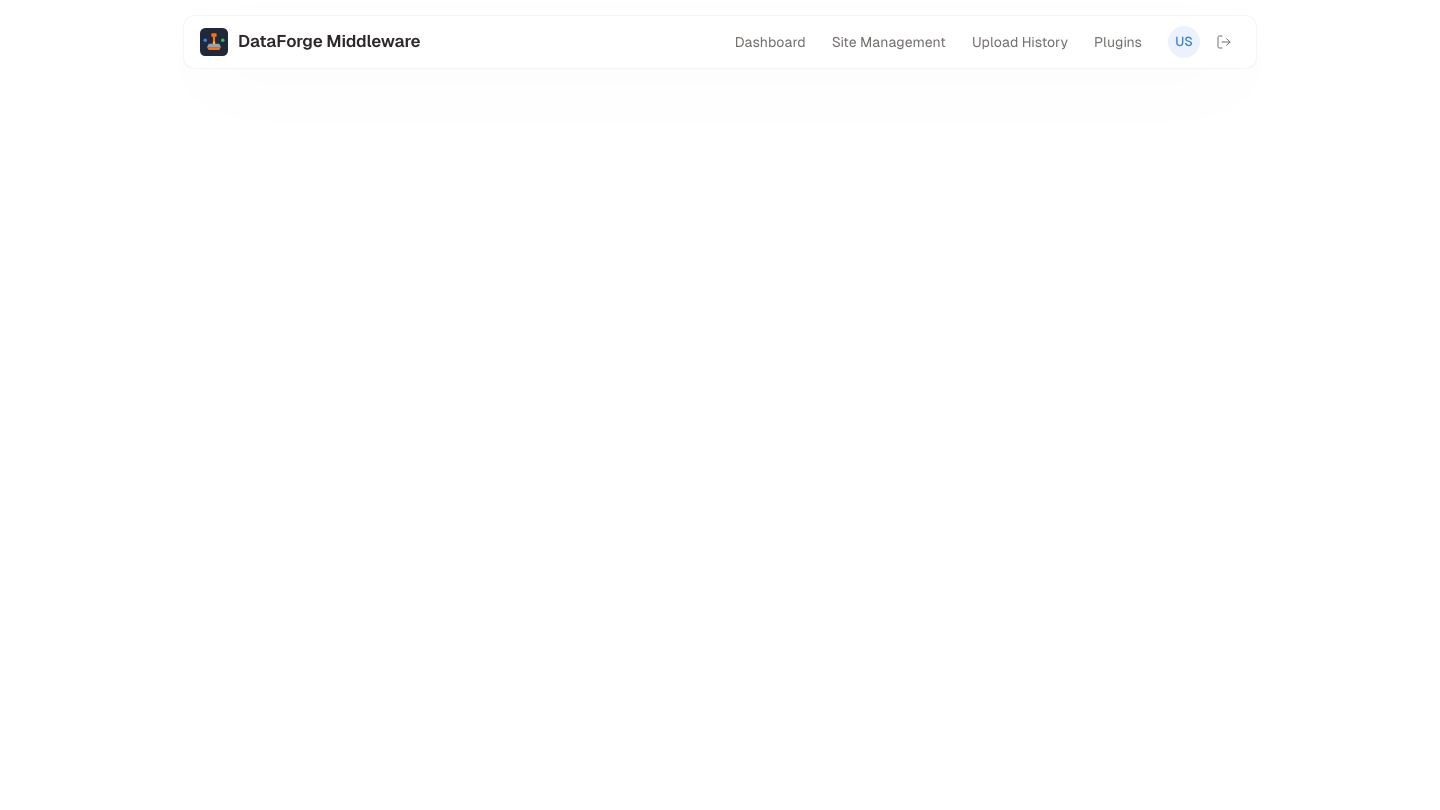
Header (floating monitoring shell per prototype, T013) › renders explicit profile fallbacks when optional personal data is missing
Click the button with aria-label "Open profile for User" at (1184, 42), box [1168,26,1200,58]
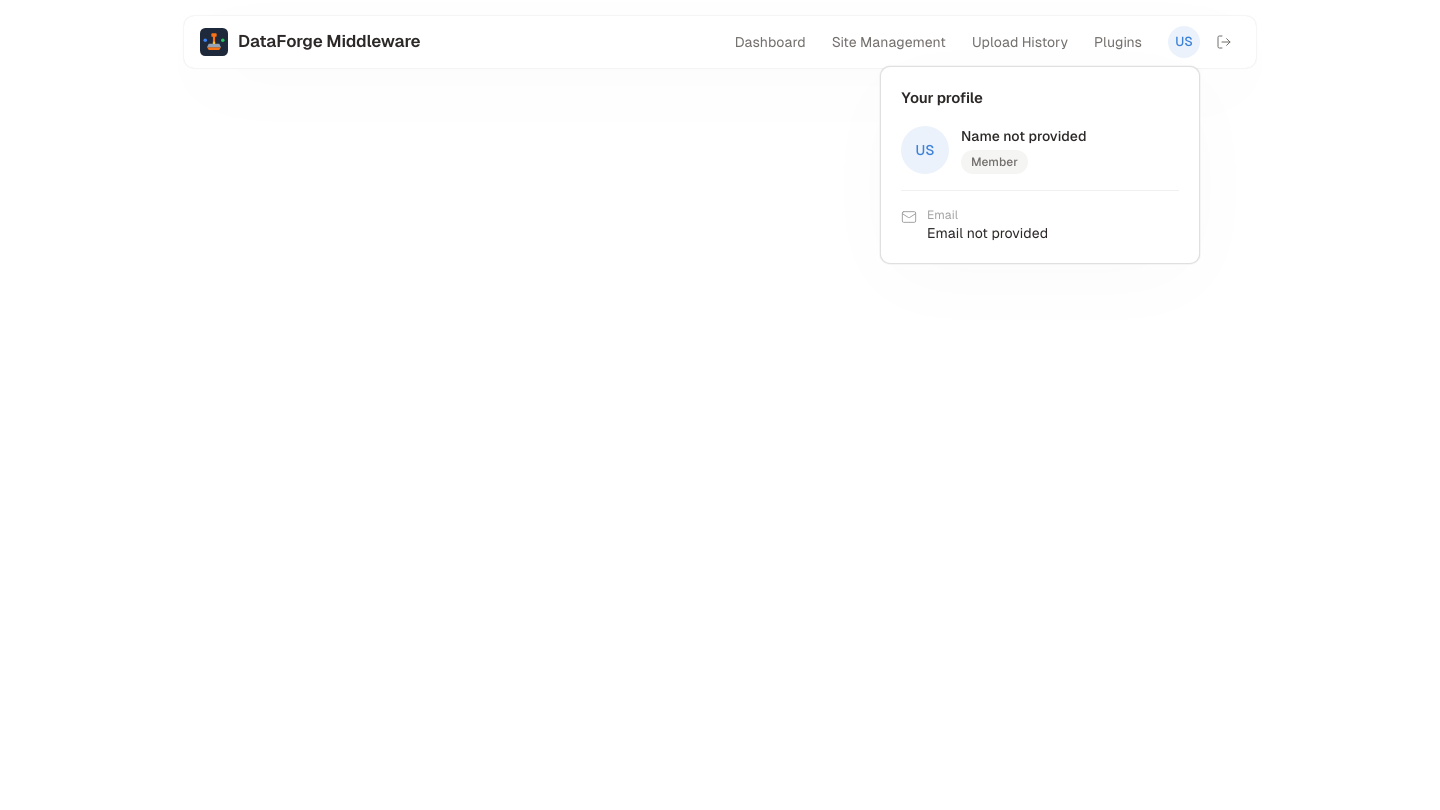
Expected: the text "Name not provided" is shown, [961,126,1087,146]
Expected: the text "Email not provided" is shown, [927,222,1048,242]
